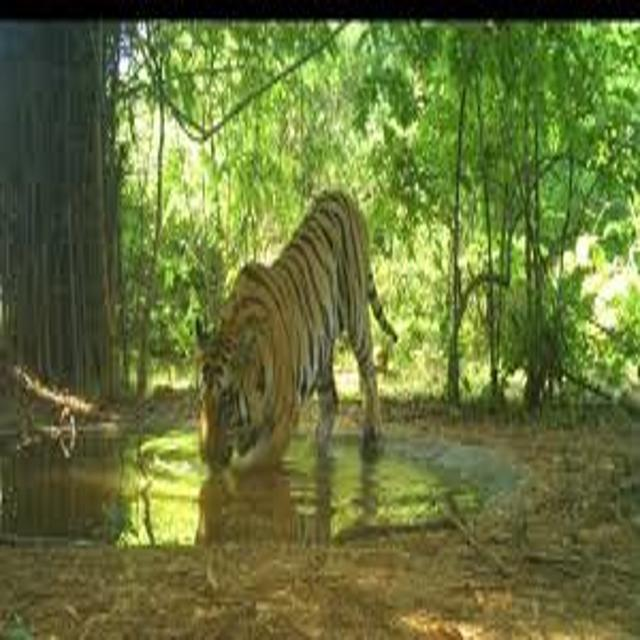Tiger: (172, 180, 408, 476)
